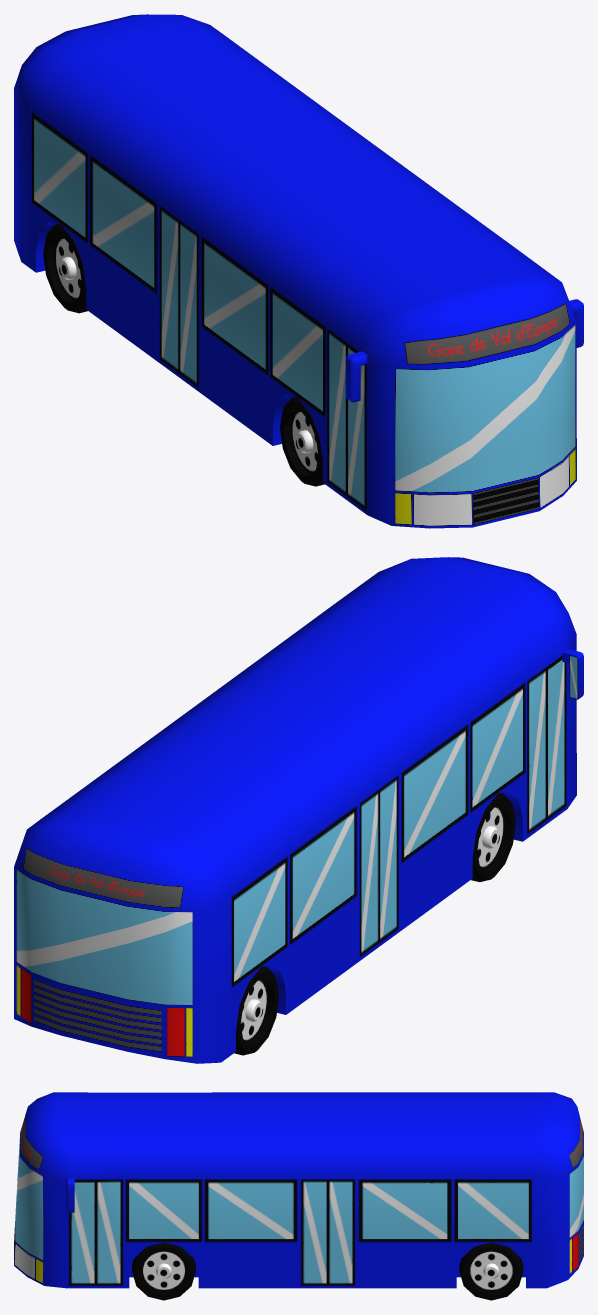
Rendered from vhc_bus_01.FBX.
The picture shows the model from 3 angles, top to bottom: view 1: azimuth 30°, elevation 25°; view 2: azimuth 150°, elevation 25°; view 3: azimuth 270°, elevation 25°; orthographic projection. The views are drawn at different scales.
Parts seen in each view (by area): view 1: bus_001; view 2: bus_001; view 3: bus_001.
Part boxes in pixels (x1,y1,x2,y2): bus_001: (14, 14, 583, 528); bus_001: (14, 557, 583, 1063); bus_001: (14, 1092, 583, 1300).
Bounding box in the file's own units: 3.5 × 3.3 × 10.71.
